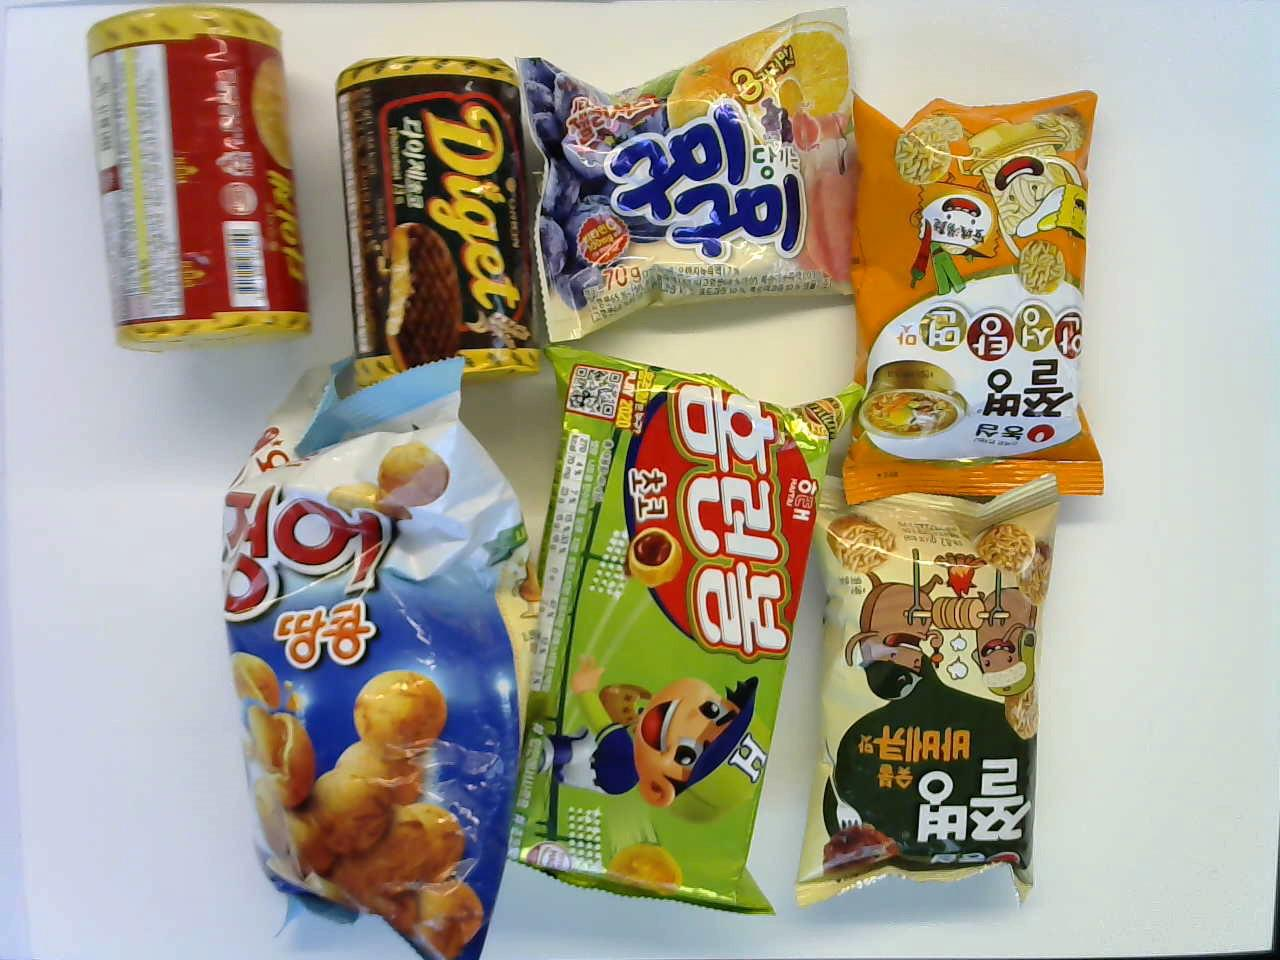diget_choco: (333, 54, 550, 382)
diget_ori: (75, 8, 314, 351)
gumi_gumi: (518, 7, 859, 338)
homerunball: (551, 338, 864, 942)
jjolbyung_noodle: (844, 89, 1102, 495)
jjolbyung_ori: (788, 485, 1061, 901)
squid_peanut: (210, 351, 535, 940)
